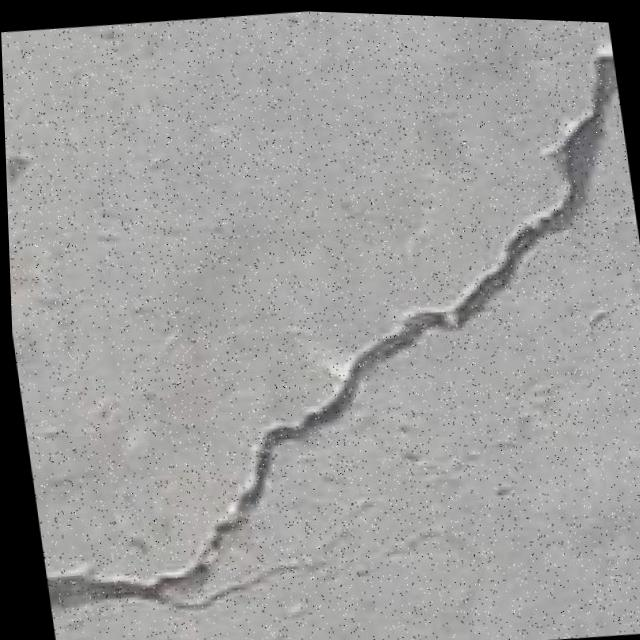Crack: (0, 11, 640, 640)
